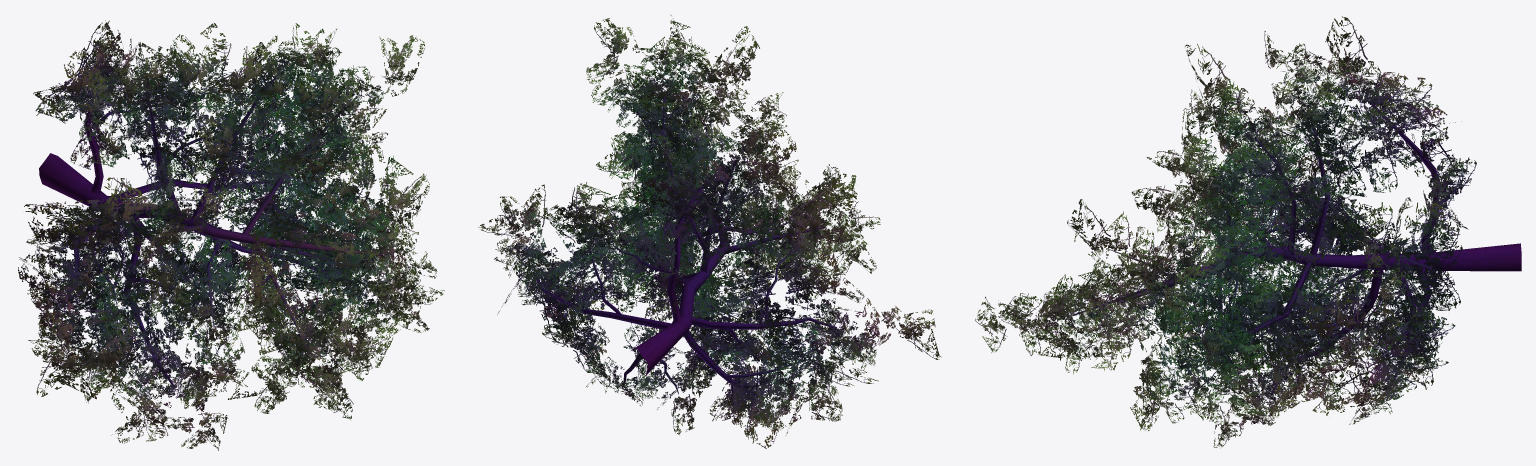
File: oak_large_oak_tree_001_lod2.glb
3 views of the same model, side by side, from view 1: azimuth 30°, elevation 25°; view 2: azimuth 150°, elevation 25°; view 3: azimuth 270°, elevation 25° (orthographic). The views are drawn at different scales.
Visible parts, largest first — view 1: Large_oak_tree_001_LOD2; view 2: Large_oak_tree_001_LOD2; view 3: Large_oak_tree_001_LOD2.
Boxes of the visible parts, x1,y1,x2,y2 form: Large_oak_tree_001_LOD2: [18, 20, 444, 450]; Large_oak_tree_001_LOD2: [478, 14, 941, 448]; Large_oak_tree_001_LOD2: [975, 16, 1521, 448].
Size of the model in its own units: 23.27 by 22.45 by 26.42.
2 materials, 2 textured.
